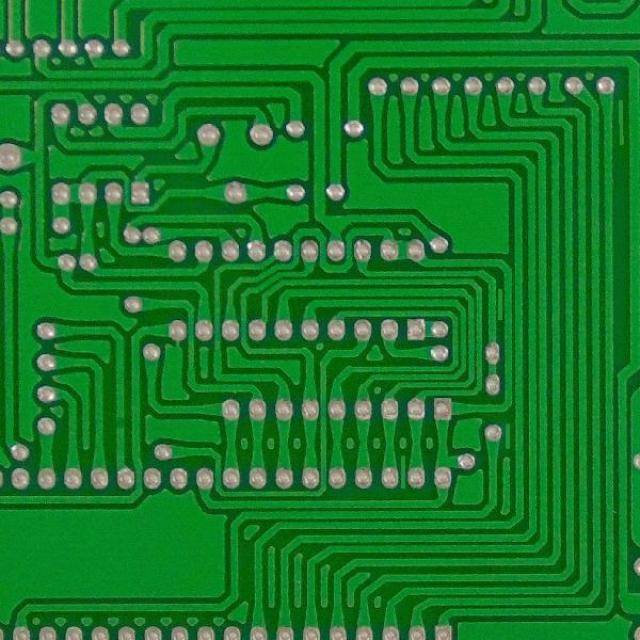spurious_copper: (609, 91, 629, 147), (396, 452, 411, 493), (494, 282, 507, 328), (502, 418, 516, 452)
